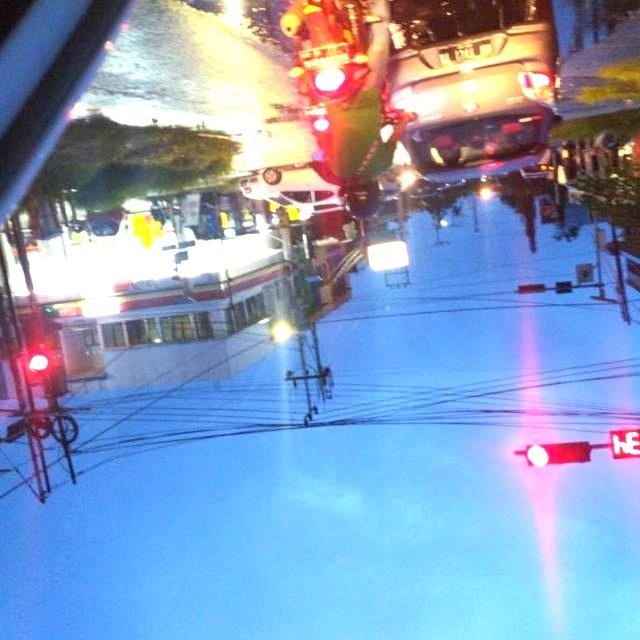Red: (15, 310, 80, 430), (484, 430, 606, 480), (600, 422, 640, 472)
